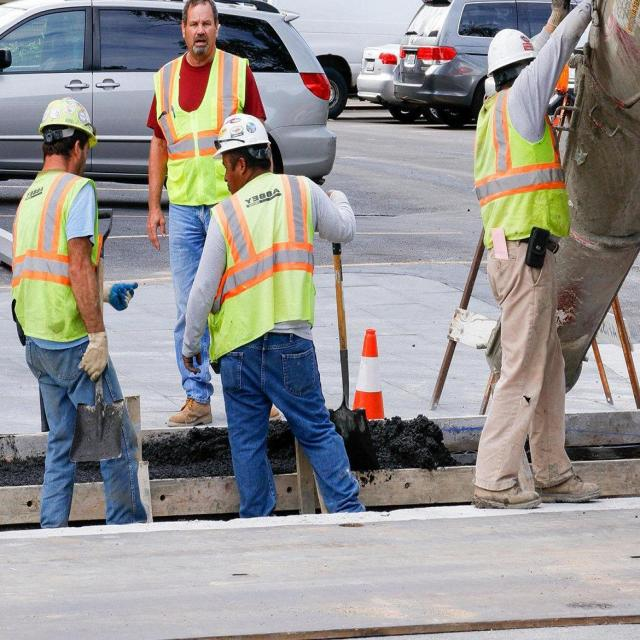Reflective-Jacket: (206, 176, 321, 357), (150, 48, 254, 210), (9, 170, 104, 347), (473, 89, 572, 253)
Safety-Helmet: (35, 94, 99, 144), (212, 109, 274, 158), (484, 27, 537, 72)
